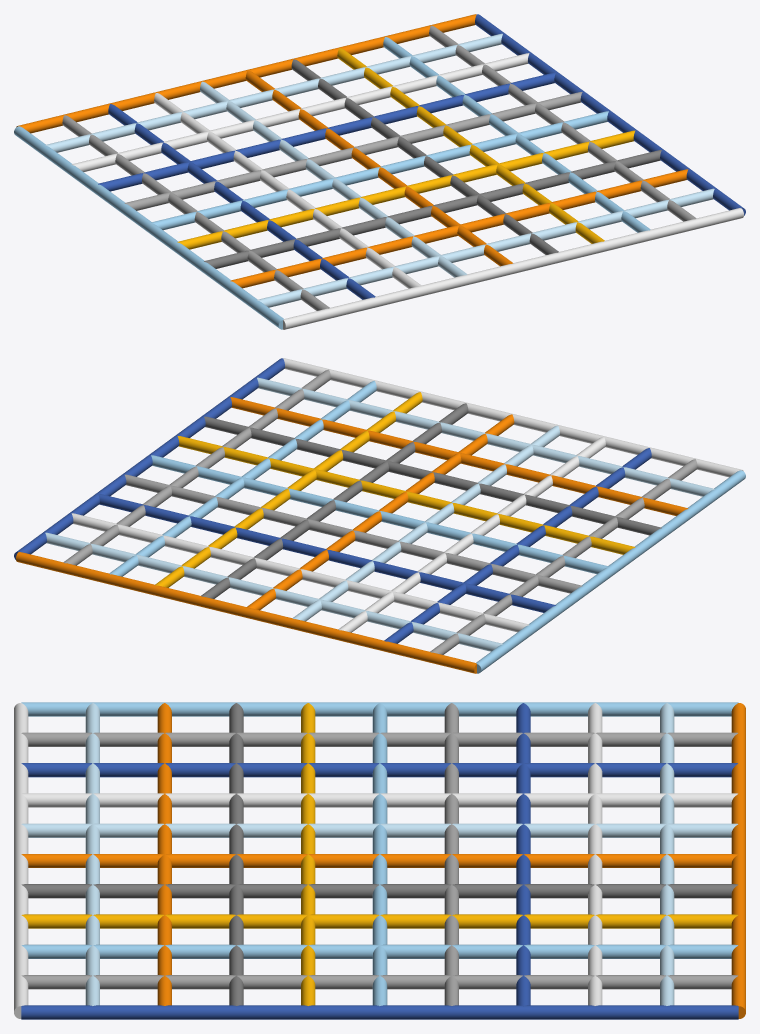
File: net20x20.obj
The picture shows the model from 3 angles, top to bottom: view 1: azimuth 30°, elevation 25°; view 2: azimuth 150°, elevation 25°; view 3: azimuth 270°, elevation 25°; orthographic projection. The views are drawn at different scales.
Visible parts, largest first — view 1: mesh64, mesh49, mesh61, mesh37, mesh40, mesh52, mesh55, mesh34, mesh46, mesh58, mesh43, mesh31 (+10 smaller); view 2: mesh49, mesh64, mesh58, mesh34, mesh52, mesh37, mesh43, mesh55, mesh61, mesh40, mesh46, mesh31 (+10 smaller); view 3: mesh1, mesh19, mesh28, mesh7, mesh10, mesh31, mesh22, mesh13, mesh4, mesh25, mesh16, mesh49 (+10 smaller).
Part boxes in pixels (left/top/right/bottom): mesh64: left=283, top=208, right=743, bottom=329; mesh49: left=18, top=14, right=476, bottom=133; mesh61: left=257, top=188, right=714, bottom=307; mesh37: left=151, top=111, right=608, bottom=230; mesh40: left=124, top=92, right=582, bottom=210; mesh52: left=177, top=130, right=635, bottom=249; mesh55: left=204, top=150, right=661, bottom=268; mesh34: left=45, top=33, right=502, bottom=152; mesh46: left=72, top=53, right=529, bottom=171; mesh58: left=230, top=169, right=688, bottom=288; mesh43: left=98, top=72, right=555, bottom=191; mesh31: left=14, top=126, right=283, bottom=328; mesh49: left=16, top=552, right=476, bottom=673; mesh64: left=283, top=358, right=741, bottom=477; mesh58: left=230, top=397, right=688, bottom=515; mesh34: left=45, top=532, right=502, bottom=651; mesh52: left=177, top=436, right=635, bottom=554; mesh37: left=151, top=455, right=608, bottom=574; mesh43: left=98, top=494, right=555, bottom=612; mesh55: left=204, top=416, right=661, bottom=535; mesh61: left=257, top=377, right=714, bottom=496; mesh40: left=125, top=474, right=582, bottom=593; mesh46: left=71, top=513, right=529, bottom=632; mesh31: left=476, top=470, right=745, bottom=672; mesh1: left=21, top=1005, right=738, bottom=1019; mesh19: left=21, top=823, right=737, bottom=837; mesh28: left=21, top=732, right=737, bottom=746; mesh7: left=21, top=944, right=737, bottom=958; mesh10: left=21, top=914, right=737, bottom=928; mesh31: left=21, top=702, right=738, bottom=716; mesh22: left=21, top=793, right=737, bottom=807; mesh13: left=21, top=884, right=737, bottom=898; mesh4: left=21, top=975, right=737, bottom=989; mesh25: left=21, top=763, right=737, bottom=777; mesh16: left=21, top=854, right=737, bottom=867; mesh49: left=731, top=703, right=745, bottom=1010.
Size of the model in its own units: 0.204 by 0.00399 by 0.204.
